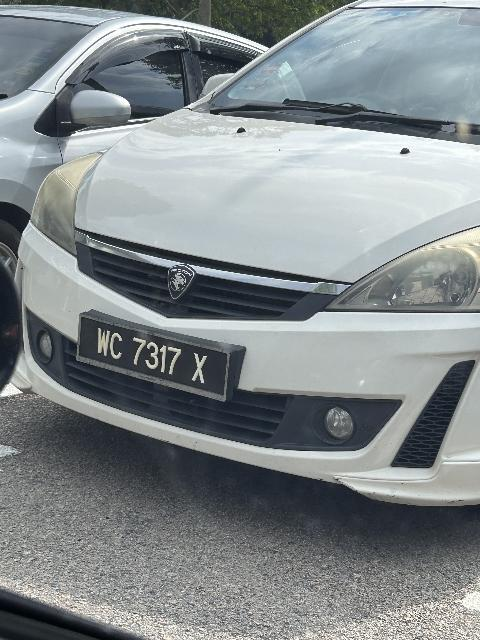License_Plate: (76, 312, 237, 408)
WC7317X: (76, 312, 237, 408)
car: (16, 3, 480, 520)
